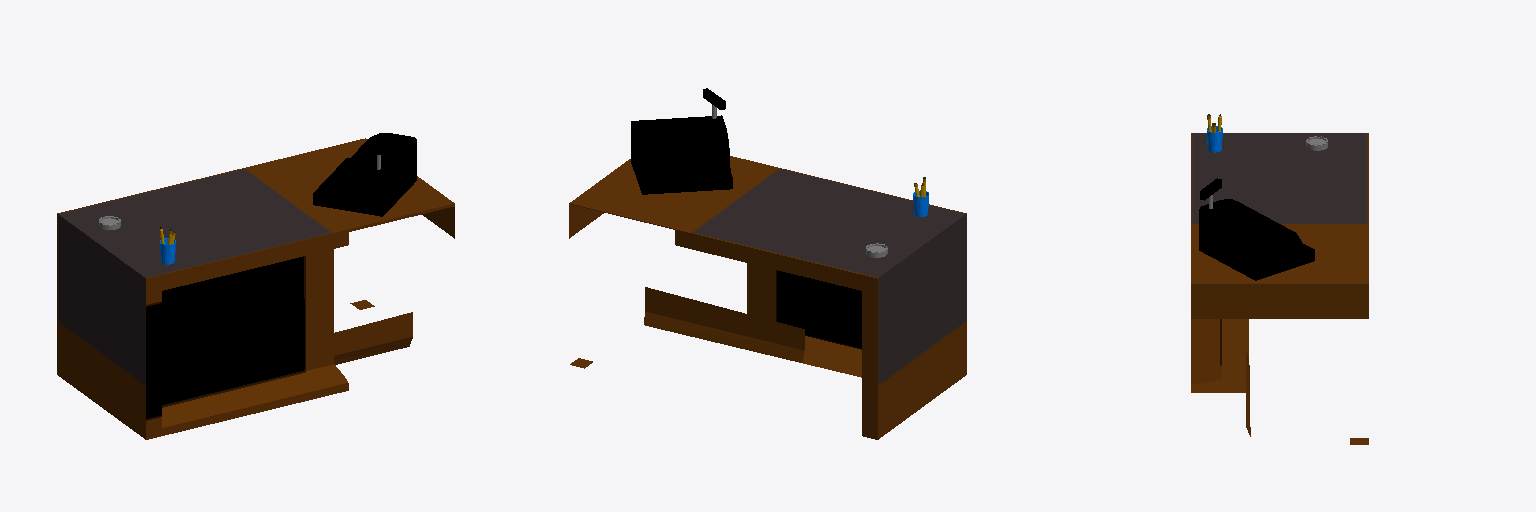
The picture shows the model from 3 angles: view 1: azimuth 30°, elevation 25°; view 2: azimuth 150°, elevation 25°; view 3: azimuth 270°, elevation 25°; orthographic projection.
Parts seen in each view (by area): view 1: pCube1, pCube2; view 2: pCube1, pCube2; view 3: pCube1, pCube2.
Boxes of the visible parts, x1=… form: pCube1: x1=57, y1=138, x2=454, y2=439; pCube2: x1=313, y1=133, x2=416, y2=216; pCube1: x1=569, y1=156, x2=966, y2=439; pCube2: x1=631, y1=115, x2=732, y2=194; pCube1: x1=1191, y1=133, x2=1368, y2=444; pCube2: x1=1199, y1=199, x2=1314, y2=280.
Size of the model in its own units: 2 by 1.41 by 1.
Materials: 6 (4 with a texture image).